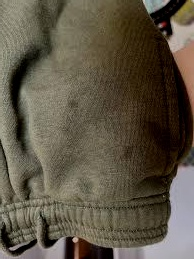oil: (66, 97, 80, 115)
